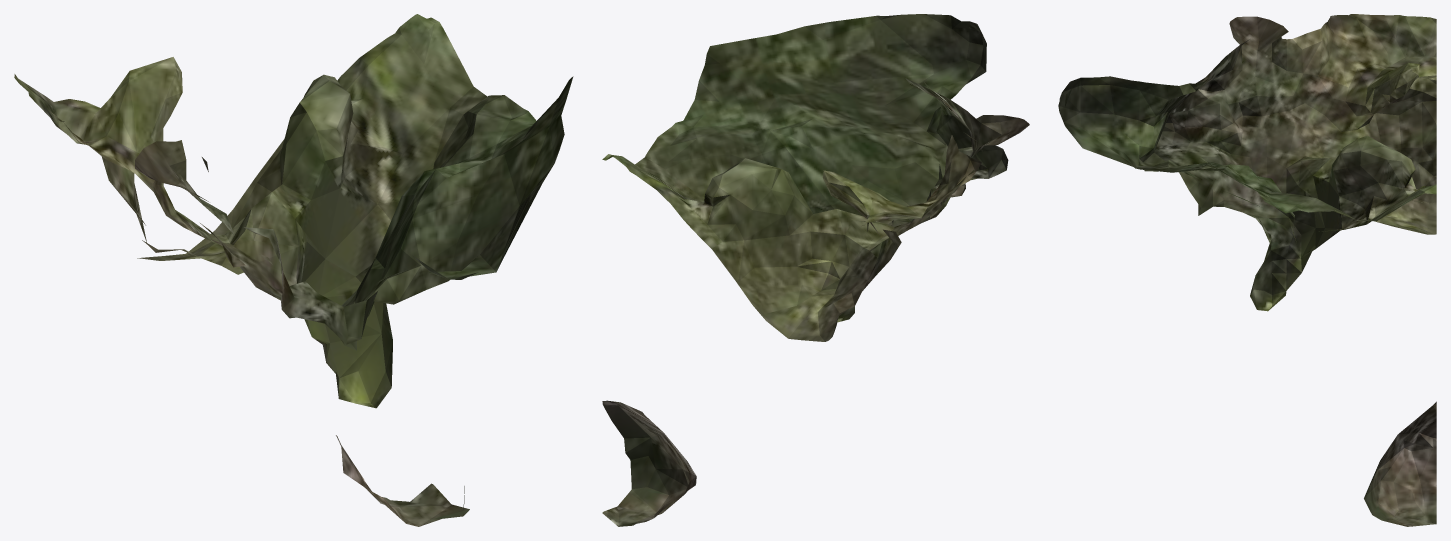
3 renders of one model, left to right at view 1: azimuth 30°, elevation 25°; view 2: azimuth 150°, elevation 25°; view 3: azimuth 270°, elevation 25°, orthographic. The views are drawn at different scales.
Bounding box in the file's own units: 1.85 × 2.14 × 1.99.
Materials: 2 (2 with a texture image).
